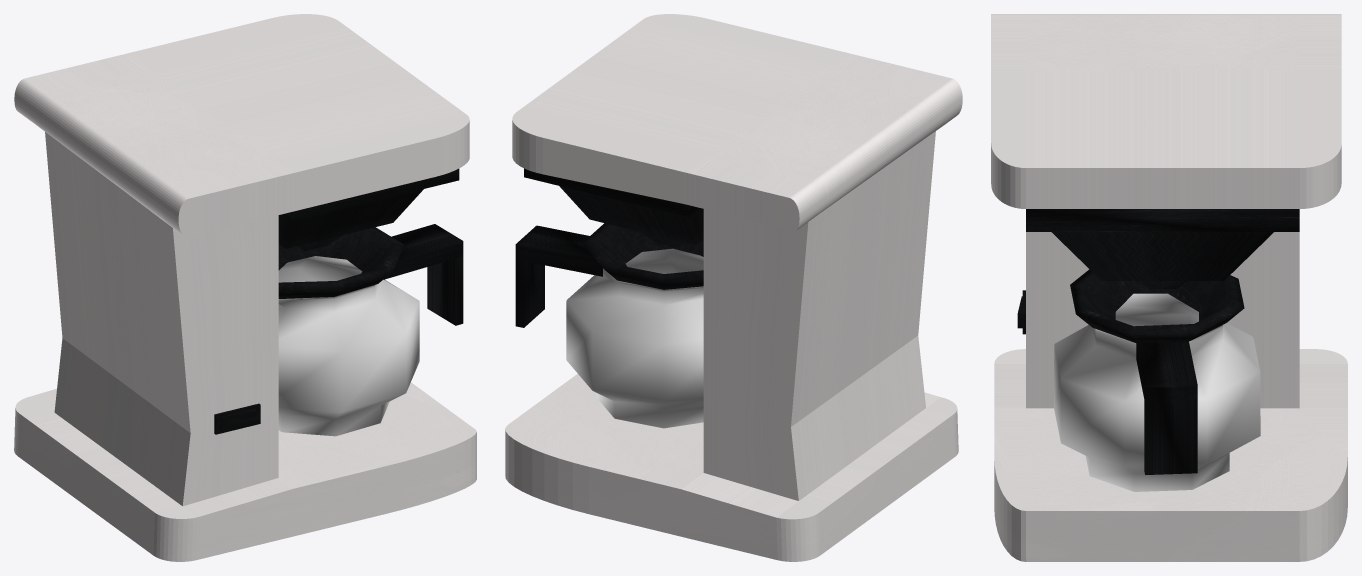
Rendered from CoffeeMachine.fbx.
The picture shows the model from 3 angles, left to right: view 1: azimuth 30°, elevation 25°; view 2: azimuth 150°, elevation 25°; view 3: azimuth 270°, elevation 25°; orthographic projection. The views are drawn at different scales.
Visible parts, largest first — view 1: CoffeeMachine; view 2: CoffeeMachine; view 3: CoffeeMachine.
Part boxes in pixels (x1,y1,x2,y2): CoffeeMachine: (14, 14, 476, 561); CoffeeMachine: (505, 14, 962, 561); CoffeeMachine: (991, 14, 1347, 561).
Bounding box in the file's own units: 65.84 × 62.81 × 52.16.
3 materials, 2 textured.
